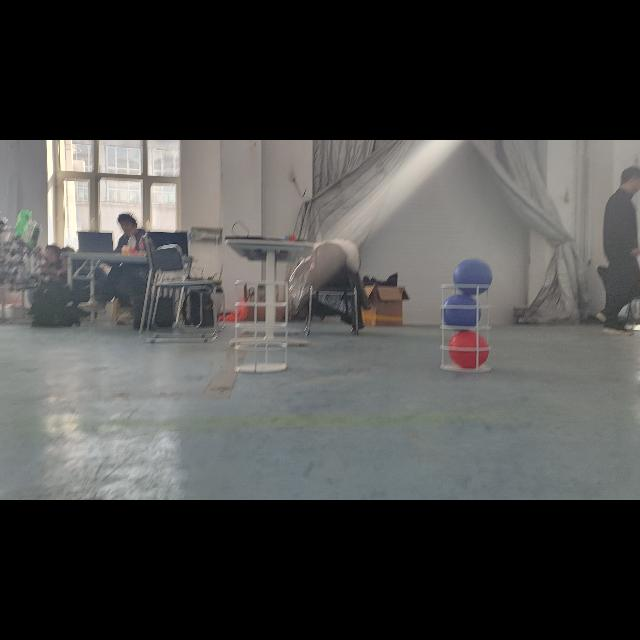B: (451, 260, 491, 296), (442, 296, 480, 330)
R: (447, 330, 489, 368)
S: (227, 278, 295, 378), (432, 278, 498, 372)
